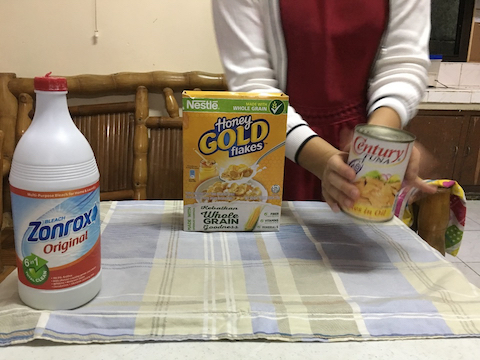bottle: (6, 73, 105, 309)
box: (180, 88, 291, 233)
can: (339, 122, 417, 225)
grab: (317, 153, 362, 213)
